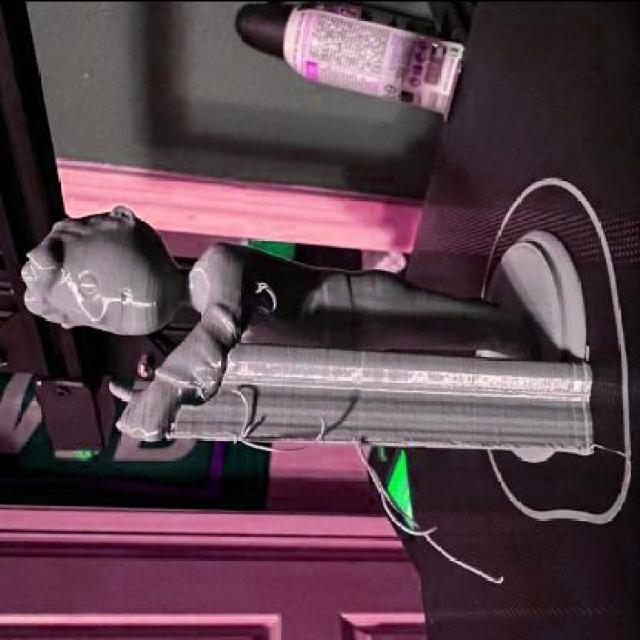Spaghetti: (352, 435, 436, 534), (229, 386, 325, 452), (251, 278, 275, 313)
